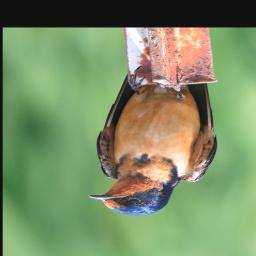Swallow: (88, 64, 218, 216)
